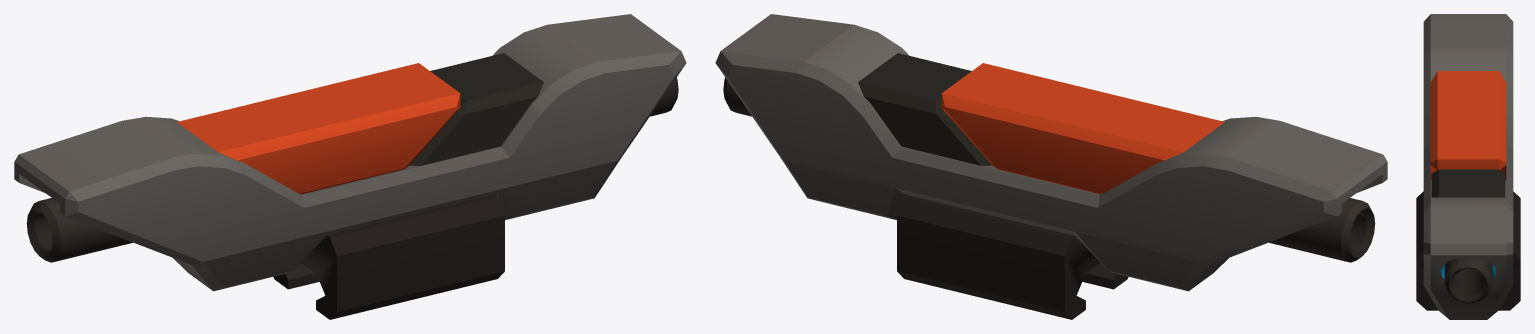
Rendered from Sight_04.fbx.
3 renders of one model, left to right at view 1: azimuth 30°, elevation 25°; view 2: azimuth 150°, elevation 25°; view 3: azimuth 270°, elevation 25°, orthographic. The views are drawn at different scales.
Parts seen in each view (by area): view 1: Sight_04; view 2: Sight_04; view 3: Sight_04.
Boxes of the visible parts, bbox=[...] form: Sight_04: bbox=[14, 14, 686, 319]; Sight_04: bbox=[715, 14, 1387, 319]; Sight_04: bbox=[1416, 14, 1520, 319].
Size of the model in its own units: 20.34 by 6.15 by 3.93.
